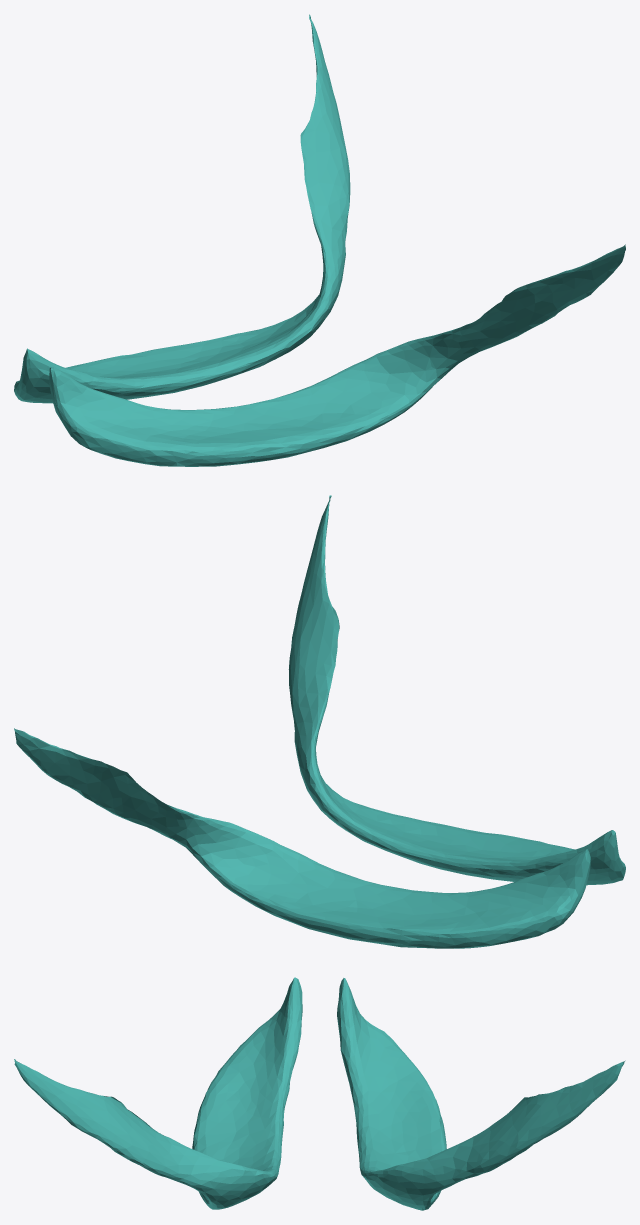
3 views of the same model, one above another, from view 1: azimuth 30°, elevation 25°; view 2: azimuth 150°, elevation 25°; view 3: azimuth 270°, elevation 25° (orthographic). The views are drawn at different scales.
Parts seen in each view (by area): view 1: 434.obj; view 2: 434.obj; view 3: 434.obj.
Boxes of the visible parts, left/top/right/bottom form: 434.obj: left=14, top=14, right=625, bottom=466; 434.obj: left=14, top=495, right=625, bottom=948; 434.obj: left=14, top=977, right=625, bottom=1210.
Size of the model in its own units: 3957 by 1992 by 5008.
